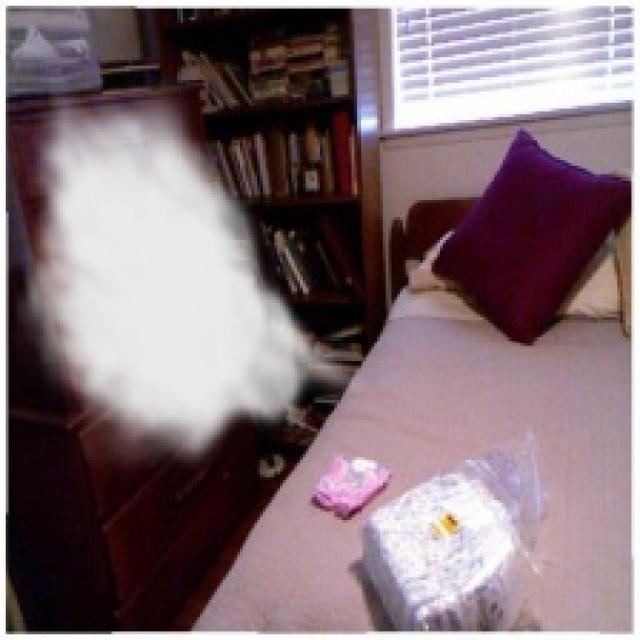Smoke: (14, 74, 374, 474)
